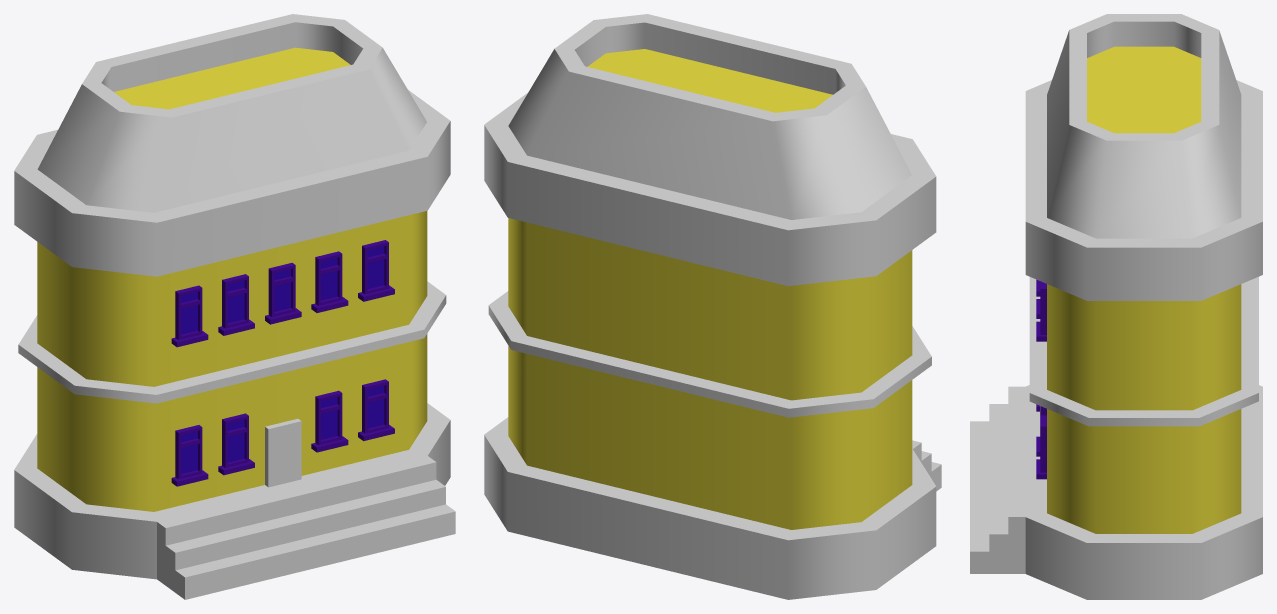
The model's file is House_3.fbx.
3 renders of one model, left to right at view 1: azimuth 30°, elevation 25°; view 2: azimuth 150°, elevation 25°; view 3: azimuth 270°, elevation 25°, orthographic. The views are drawn at different scales.
Visible parts, largest first — view 1: Cube.013; view 2: Cube.013; view 3: Cube.013.
Part boxes in pixels (x1,y1,x2,y2): Cube.013: (14, 14, 455, 599); Cube.013: (484, 14, 941, 599); Cube.013: (970, 14, 1262, 599).
Size of the model in its own units: 222 by 245 by 151.
